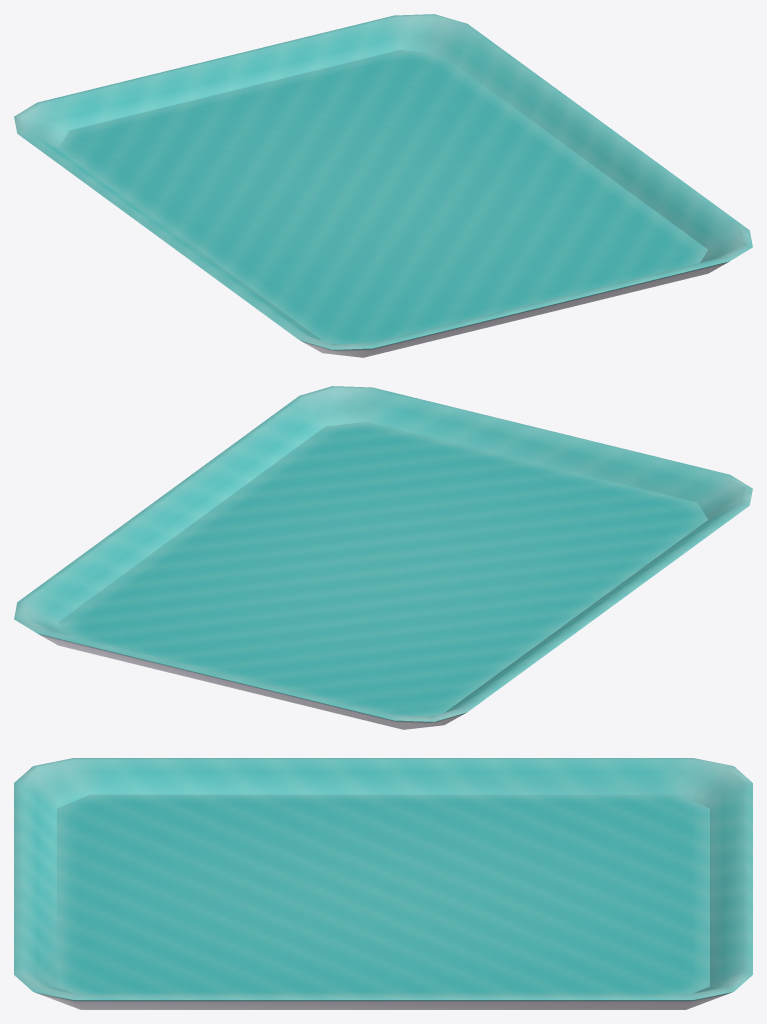
File: jsf_Tray_03.fbx
3 renders of one model, top to bottom at view 1: azimuth 30°, elevation 25°; view 2: azimuth 150°, elevation 25°; view 3: azimuth 270°, elevation 25°, orthographic. The views are drawn at different scales.
Visible parts, largest first — view 1: jsf_Tray_03; view 2: jsf_Tray_03; view 3: jsf_Tray_03.
Boxes of the visible parts, bbox=[...] form: jsf_Tray_03: bbox=[14, 14, 752, 357]; jsf_Tray_03: bbox=[14, 386, 752, 729]; jsf_Tray_03: bbox=[14, 758, 752, 1009].
Bounding box in the file's own units: 21.76 × 1.1 × 28.1.
